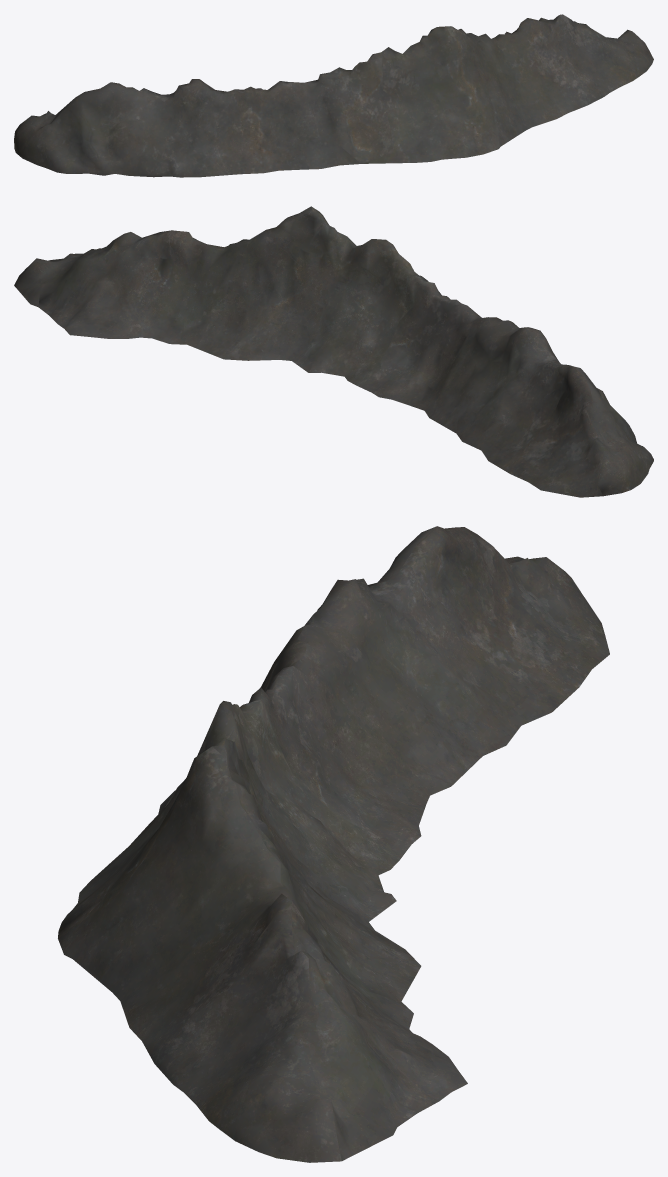
File: Cliff_W3_CraterRing_A_0.fbx
3 views of the same model, one above another, from view 1: azimuth 30°, elevation 25°; view 2: azimuth 150°, elevation 25°; view 3: azimuth 270°, elevation 25° (orthographic). The views are drawn at different scales.
Visible parts, largest first — view 1: CraterRing_A.mo; view 2: CraterRing_A.mo; view 3: CraterRing_A.mo.
Boxes of the visible parts, x1,y1,x2,y2 form: CraterRing_A.mo: (14,14,653,177); CraterRing_A.mo: (14,206,653,497); CraterRing_A.mo: (58,526,609,1162).
Bounding box in the file's own units: 12844 × 2090 × 5299.
1 material, 1 textured.
